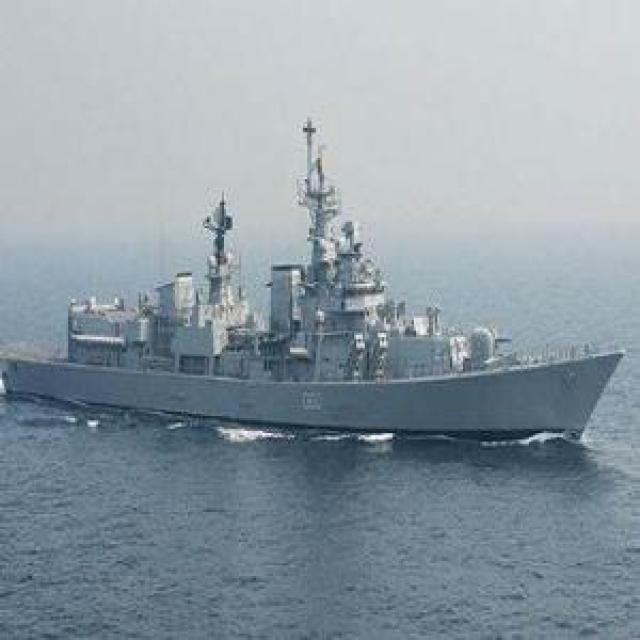navalvessels: (0, 117, 614, 437)
